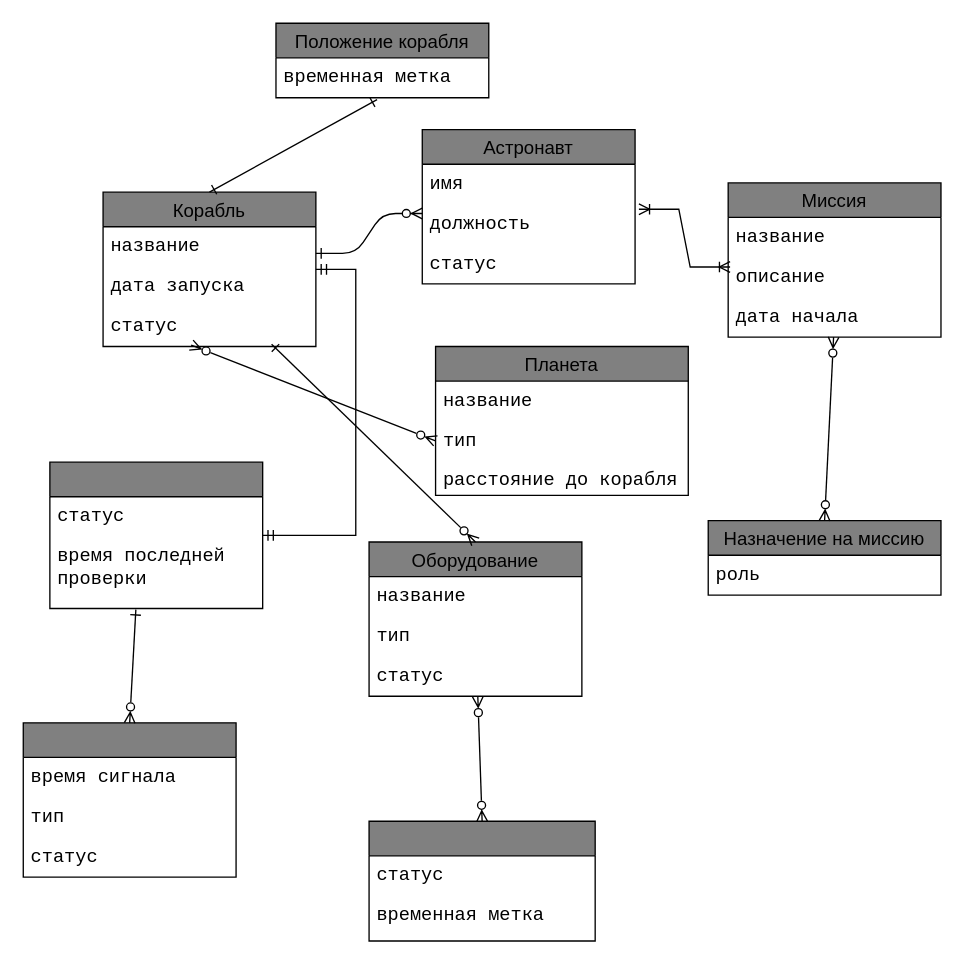
Image size: 964x968. Some labels were removed from this diagram. The shapes that lost their labels are listed below. From the top down, each one's box as (x1, y1, x2, y2) in pixels, then its label:
(49, 461, 263, 608): Система связи
(22, 722, 236, 877): сигнал тревоги
(368, 820, 595, 941): Статус оборудования
